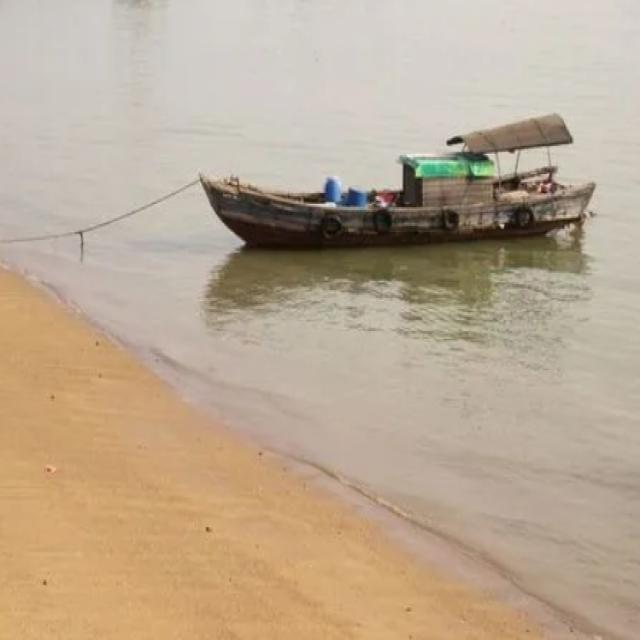fishing boat: (191, 113, 589, 241)
